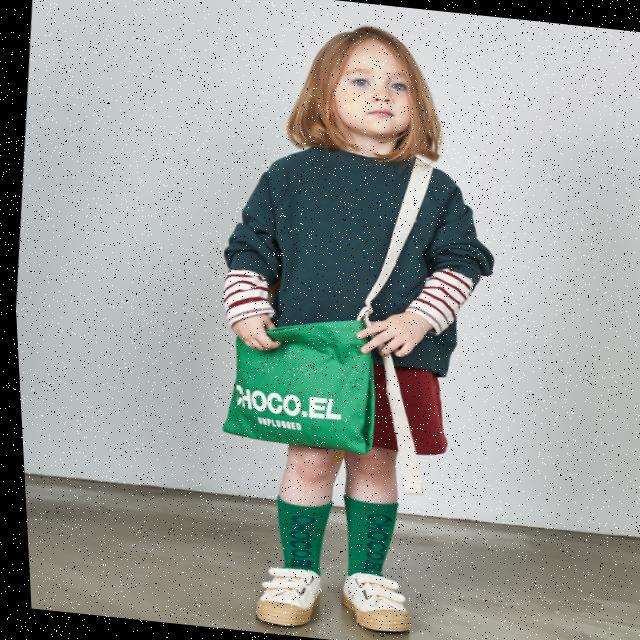ecobag: (176, 272, 401, 468)
